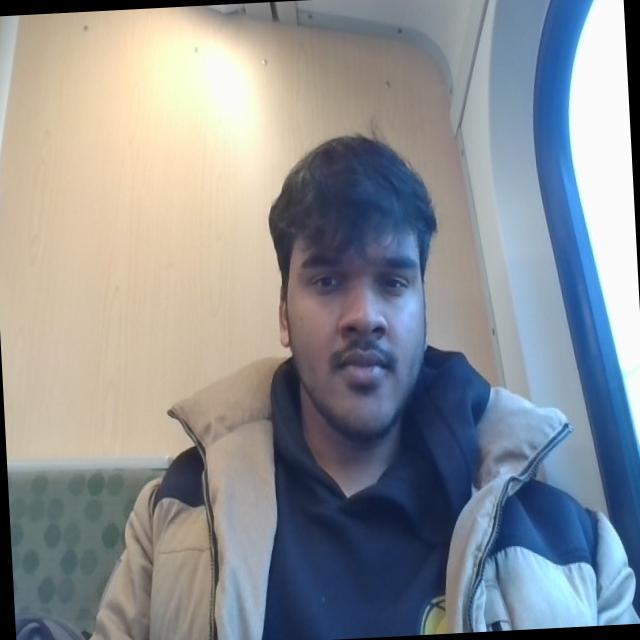no hat: (258, 125, 437, 246)
